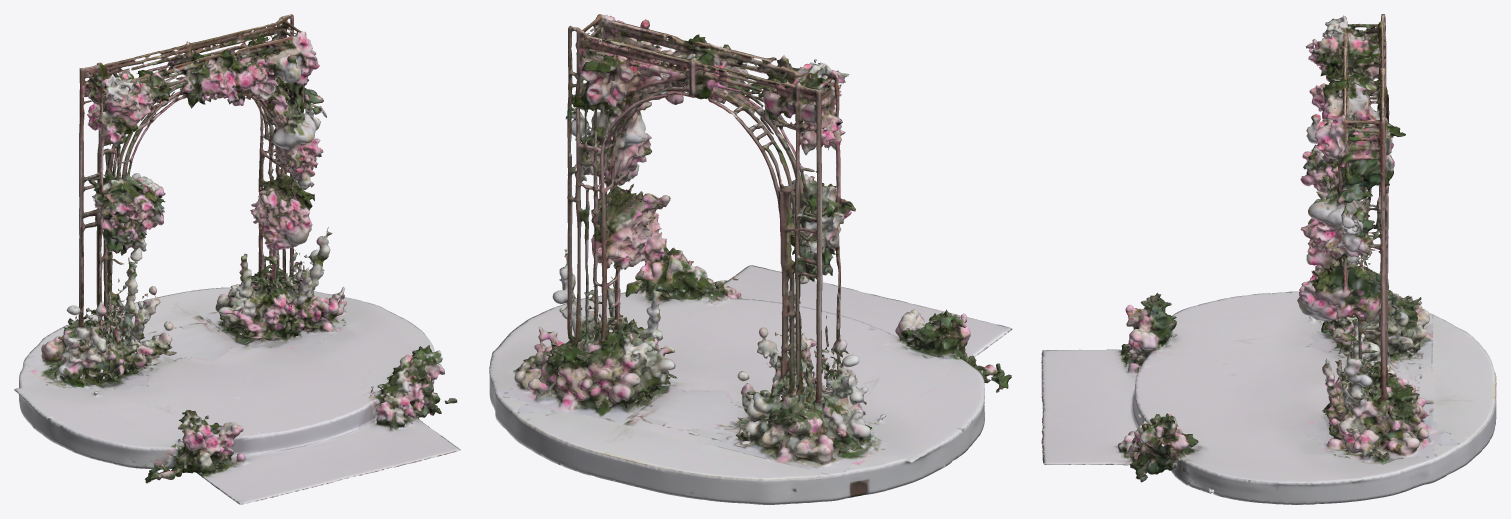
Rendered from Floral_Backdrop.glb.
3 views of the same model, side by side, from view 1: azimuth 30°, elevation 25°; view 2: azimuth 150°, elevation 25°; view 3: azimuth 270°, elevation 25° (orthographic). The views are drawn at different scales.
Size of the model in its own units: 1.99 by 1.69 by 2.
1 material, 1 textured.
